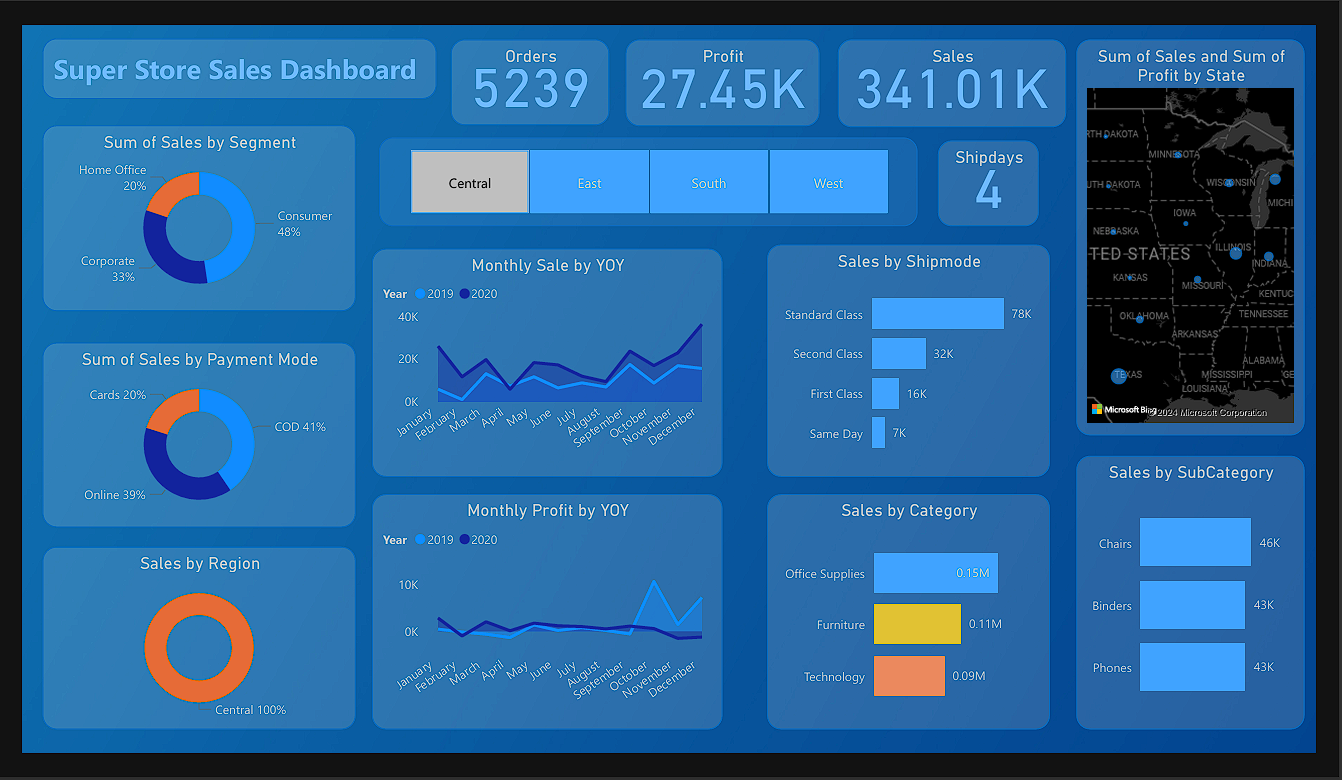

The dashboard page shown, as its layout file describes it:
{"tool":"powerbi","page":{"name":"Page 1","canvas":[1280,720],"ordinal":0},"visuals":[{"type":"clusteredBarChart","title":"Sales by Category","fields":{"Y":["Sum(Sheet1.Sales)"],"Category":["Sheet1.Category"]},"box":[737.1,464.3,280,232.9],"z":0},{"type":"clusteredBarChart","title":"Sales by SubCategory","fields":{"Y":["Sum(Sheet1.Sales)"],"Category":["Sheet1.Sub-Category"]},"box":[1042.9,425.7,225.7,271.4],"z":1000},{"type":"clusteredBarChart","title":"Sales by Shipmode","fields":{"Y":["Sum(Sheet1.Sales)"],"Category":["Sheet1.Ship Mode","Sheet1.Sub-Category"]},"box":[737.1,217.1,280,230],"z":2000},{"type":"areaChart","title":"Monthly Sale by YOY","fields":{"Y":["Sum(Sheet1.Sales)"],"Category":["Sheet1.Order Date.Variation.Date Hierarchy.Month"],"Series":["Sheet1.Order Date.Variation.Date Hierarchy.Year"]},"box":[345.7,221.4,347.1,225.7],"z":2001},{"type":"areaChart","title":"Monthly Profit by YOY","fields":{"Category":["Sheet1.Order Date.Variation.Date Hierarchy.Month"],"Series":["Sheet1.Order Date.Variation.Date Hierarchy.Year"],"Y":["Sum(Sheet1.Profit)"]},"box":[345.7,464.3,347.1,232.9],"z":2002},{"type":"map","fields":{"Size":["Sum(Sheet1.Sales)"],"Category":["Sheet1.State"]},"box":[1042.9,14.3,225.7,391.4],"z":2003},{"type":"donutChart","fields":{"Category":["Sheet1.Segment"],"Y":["Sum(Sheet1.Sales)"]},"box":[20,98.6,310,184.3],"z":2004},{"type":"donutChart","fields":{"Y":["Sum(Sheet1.Sales)"],"Category":["Sheet1.Payment Mode"]},"box":[20,314.3,310,182.9],"z":2005},{"type":"slicer","fields":{"Values":["Sheet1.Region"]},"box":[352.9,111.4,532.9,87.1],"z":2006},{"type":"textbox","box":[20,12.9,390,60],"z":2007},{"type":"card","title":"Sales","fields":{"Values":["Sum(Sheet1.Sales)"]},"box":[807.1,14.3,225.7,87.1],"z":2008},{"type":"card","title":"Orders","fields":{"Values":["Sum(Sheet1.Quantity)"]},"box":[424.3,14.3,157.1,84.3],"z":2009},{"type":"card","title":"Shipdays","fields":{"Values":["Avg(Sheet1.AvgDelivery)"]},"box":[905.7,114.3,100,84.3],"z":2011},{"type":"card","title":"Profit","fields":{"Values":["Sum(Sheet1.Profit)"]},"box":[597.1,14.3,191.4,85.7],"z":2012},{"type":"donutChart","title":"Sales by Region","fields":{"Y":["Sum(Sheet1.Sales)"],"Category":["Sheet1.Region"]},"box":[20,515.7,310,181.4],"z":2013}]}

Visuals, with their boxes in screenshot pixels (x1, y1, x2, y2):
"Sales by Category" clusteredBarChart: (x1=762, y1=487, x2=1052, y2=728)
"Sales by SubCategory" clusteredBarChart: (x1=1078, y1=447, x2=1312, y2=728)
"Sales by Shipmode" clusteredBarChart: (x1=762, y1=231, x2=1052, y2=469)
"Monthly Sale by YOY" areaChart: (x1=357, y1=236, x2=716, y2=469)
"Monthly Profit by YOY" areaChart: (x1=357, y1=487, x2=716, y2=728)
map - Sum(Sheet1.Sales) x Sheet1.State: (x1=1078, y1=22, x2=1312, y2=426)
donutChart - Sheet1.Segment x Sum(Sheet1.Sales): (x1=21, y1=109, x2=341, y2=299)
donutChart - Sum(Sheet1.Sales) x Sheet1.Payment Mode: (x1=21, y1=332, x2=341, y2=521)
slicer - Sheet1.Region: (x1=365, y1=122, x2=916, y2=212)
textbox: (x1=21, y1=20, x2=424, y2=82)
"Sales" card: (x1=834, y1=22, x2=1068, y2=112)
"Orders" card: (x1=439, y1=22, x2=601, y2=109)
"Shipdays" card: (x1=936, y1=125, x2=1040, y2=212)
"Profit" card: (x1=617, y1=22, x2=815, y2=110)
"Sales by Region" donutChart: (x1=21, y1=540, x2=341, y2=728)
